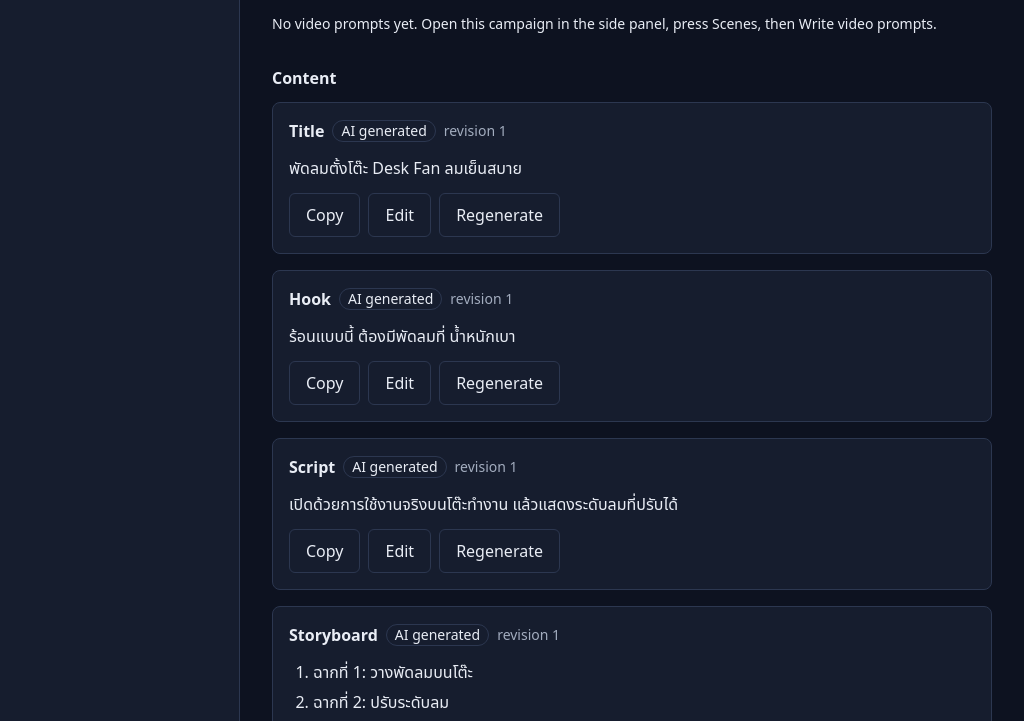
Test case: DraftPage: saving one section › keeps the Cancel path free of requests
(page scrolled)
Click the button "Edit" below "ร้อนแบบนี้ ต้องมีพัดลมที่ น้ำหนักเบา".
click(400, 383)  # box [368,361,431,405]
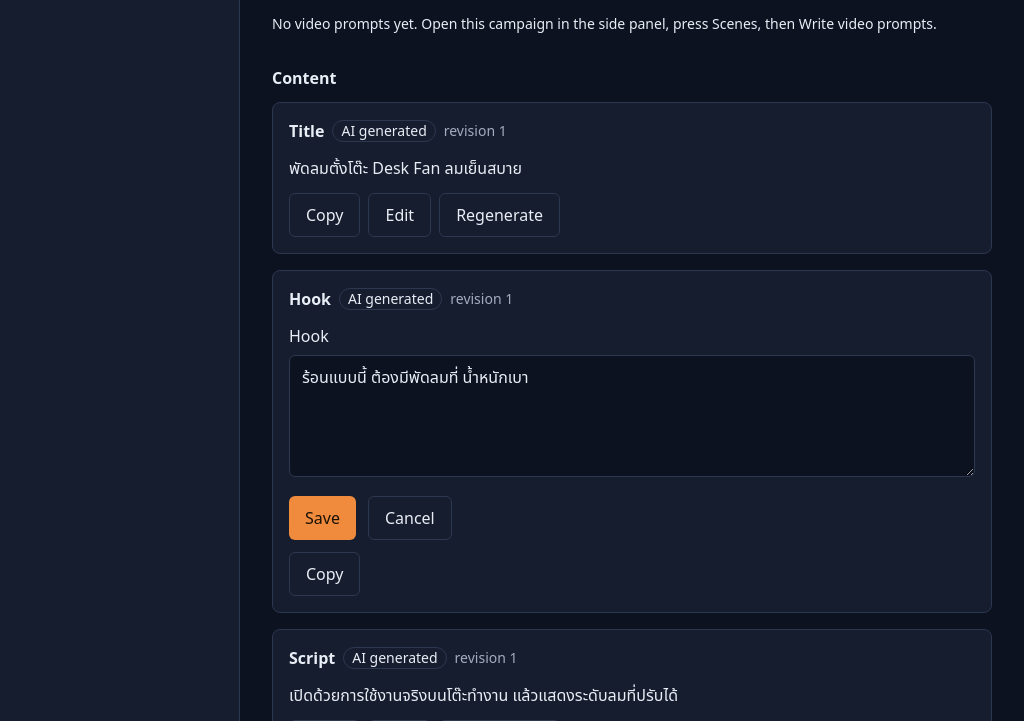
Replace the text in the text box labelled "Hook" with "ร้อนมาก ต้องมีพัดลมที่ น้ำหนักเบา" at x=632, y=416, box [289,355,975,477]
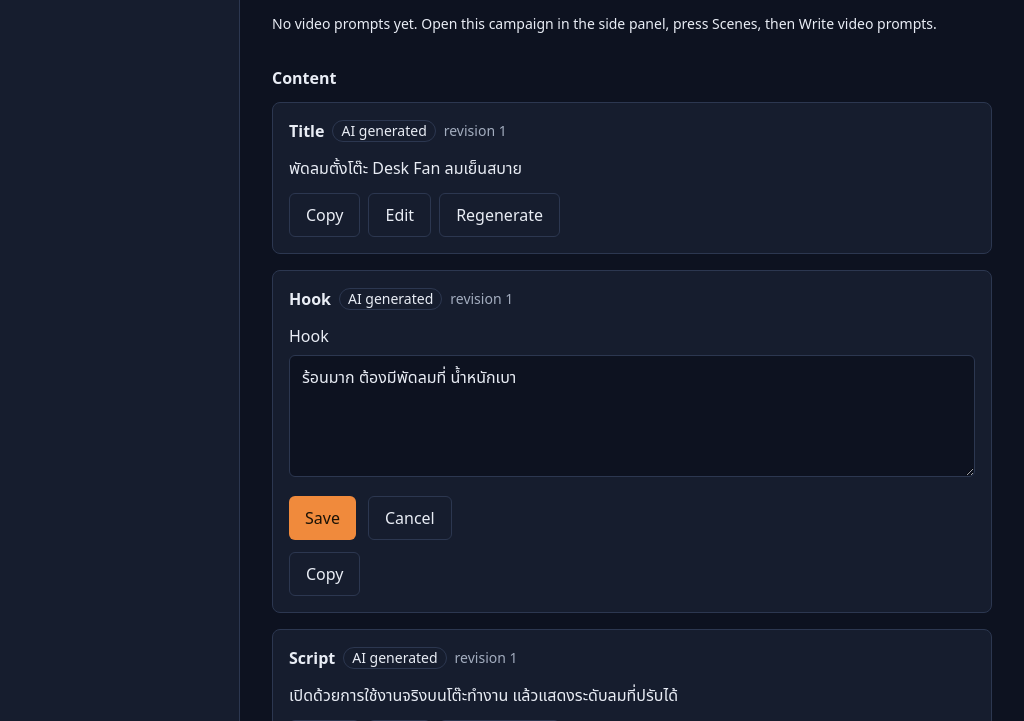
Click the button "Cancel".
click(410, 518)  # box [368,496,452,540]
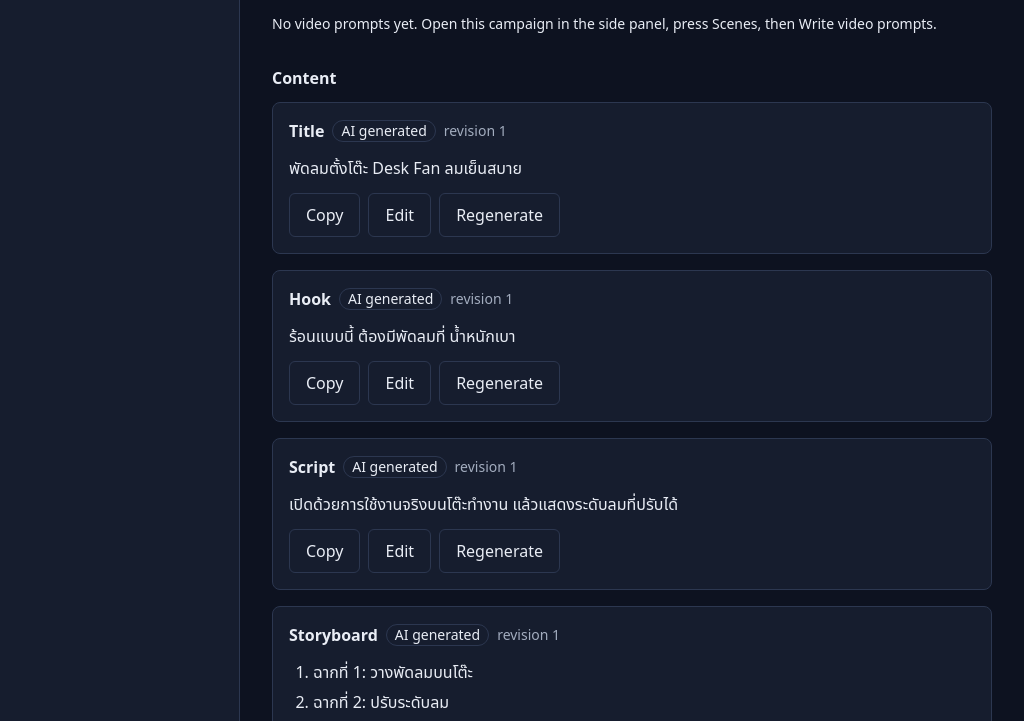
Expected: the text "ร้อนแบบนี้ ต้องมีพัดลมที่ น้ำหนักเบา" is shown, [289,325,515,347]
